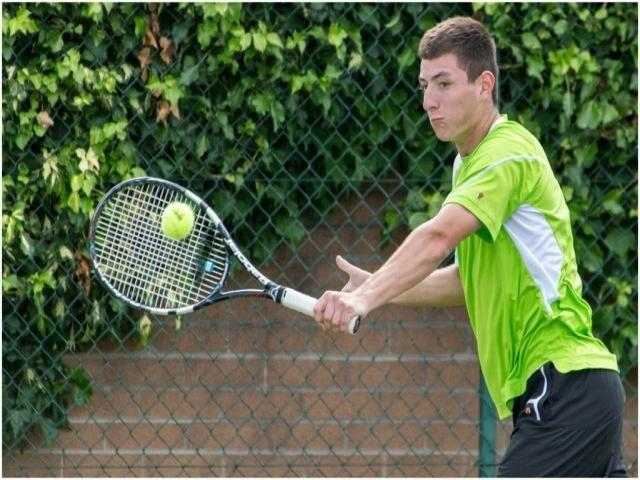tennis-ball: (160, 201, 195, 240)
